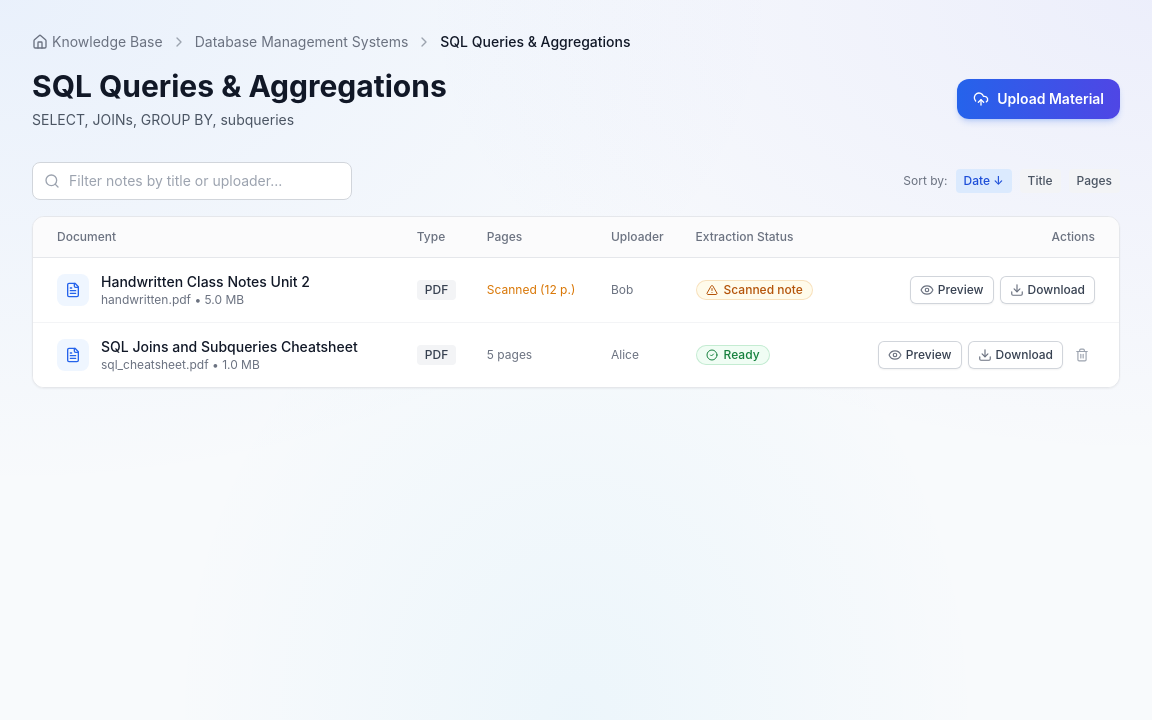
Test: Knowledge Base Pages Integration › renders topic documents page with document list, status badges, and preview drawer
Check: the heading "SQL Queries & Aggregations" is shown, box [32, 68, 447, 104]
Check: the text "SQL Joins and Subqueries Cheatsheet" is shown, box [101, 337, 393, 357]
# Verify previewing the scanned note (doc-2, newest date)
Click the button "Preview" in the row of "Handwritten Class Notes Unit 2": {"x": 952, "y": 290} [910, 276, 994, 304]
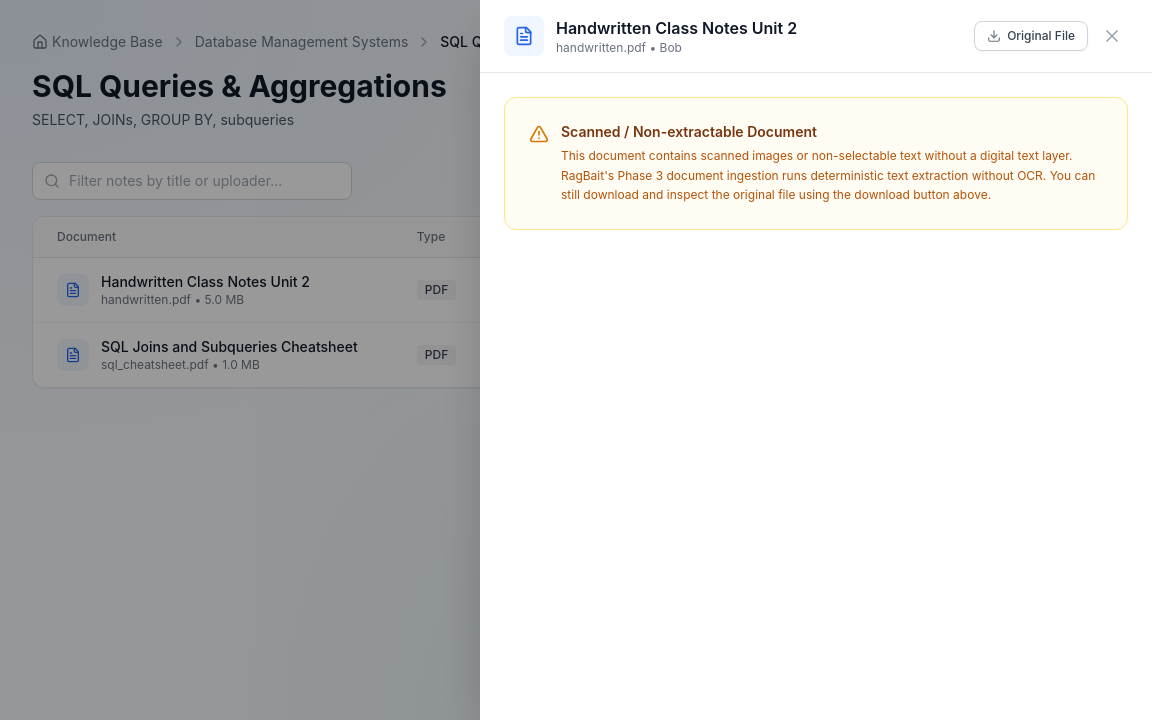
Check: the heading "Scanned / Non-extractable Document" is shown, box [561, 123, 817, 140]
# Close preview drawer
Click the button named "Close preview": {"x": 1112, "y": 36} [1096, 20, 1128, 52]
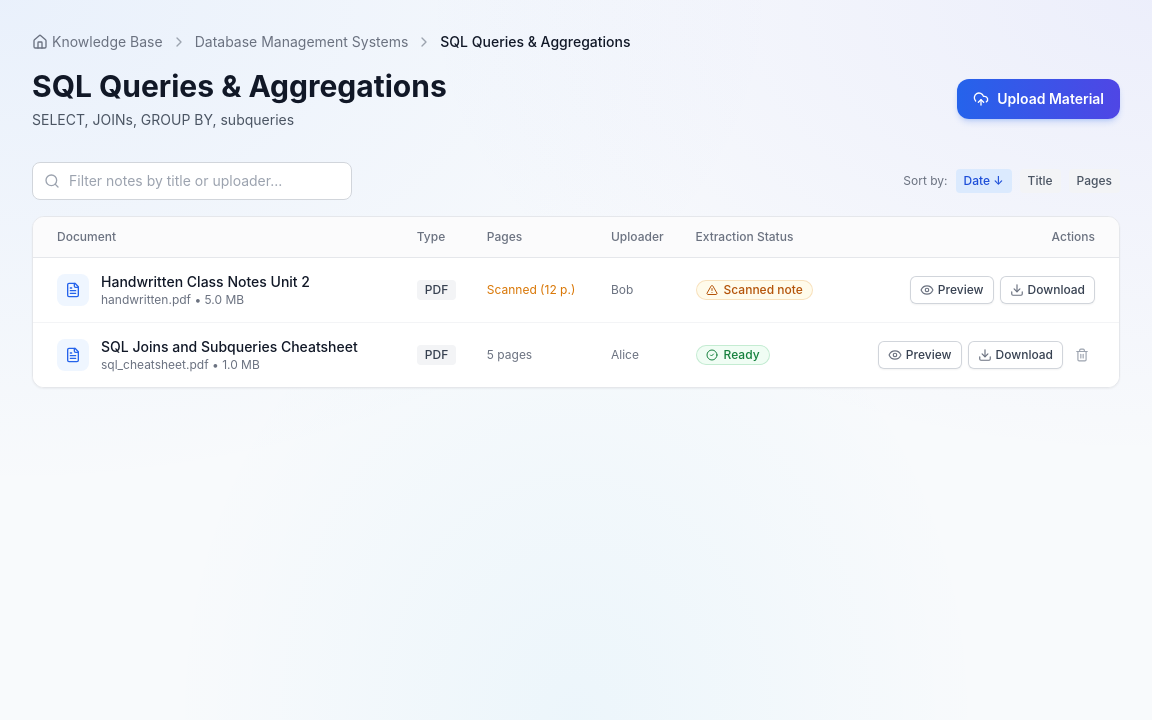
# Verify previewing the text document (doc-1)
Click the button "Preview" in the row of "SQL Joins and Subqueries Cheatsheet": {"x": 920, "y": 355} [878, 341, 962, 369]
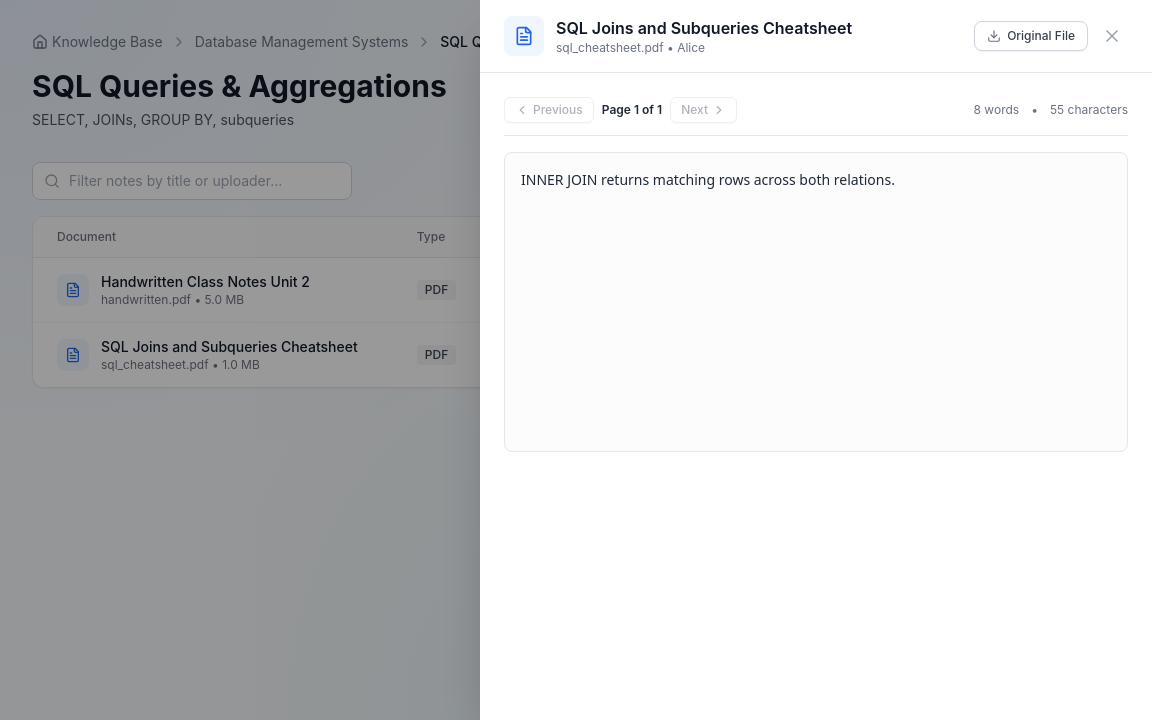
Check: the text "INNER JOIN returns matching rows across both relations." is shown, box [521, 170, 895, 189]
